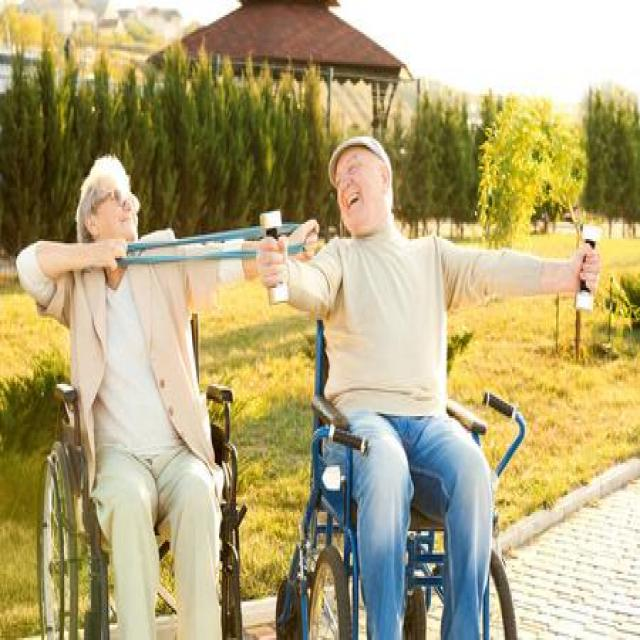wheelchairs: (269, 288, 526, 640), (20, 300, 258, 640)
